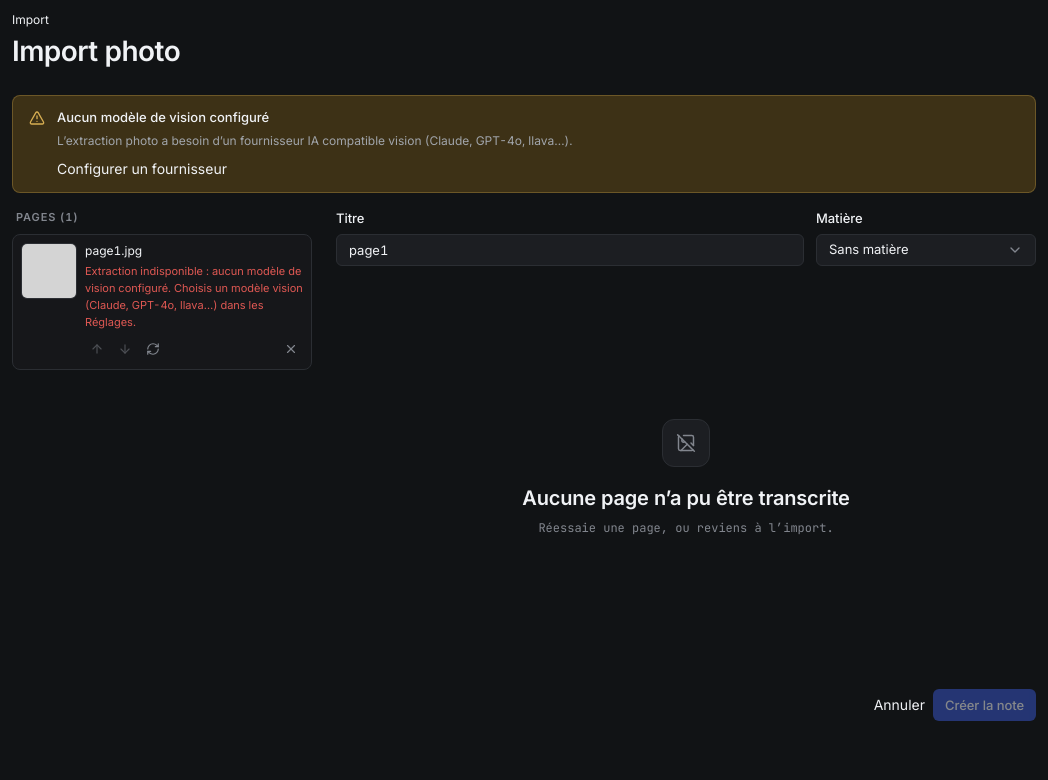
Scenario: <PhotoImport> provider banner › clears the no-vision-provider banner once a retry extracts successfully
Expected: the text "Aucun modèle de vision configuré" is shown, [57,109,269,125]
// Provider fixed elsewhere → retry now succeeds → banner disappears.
Click the button named "Réextraire cette page": (153, 349) [141,337,165,361]
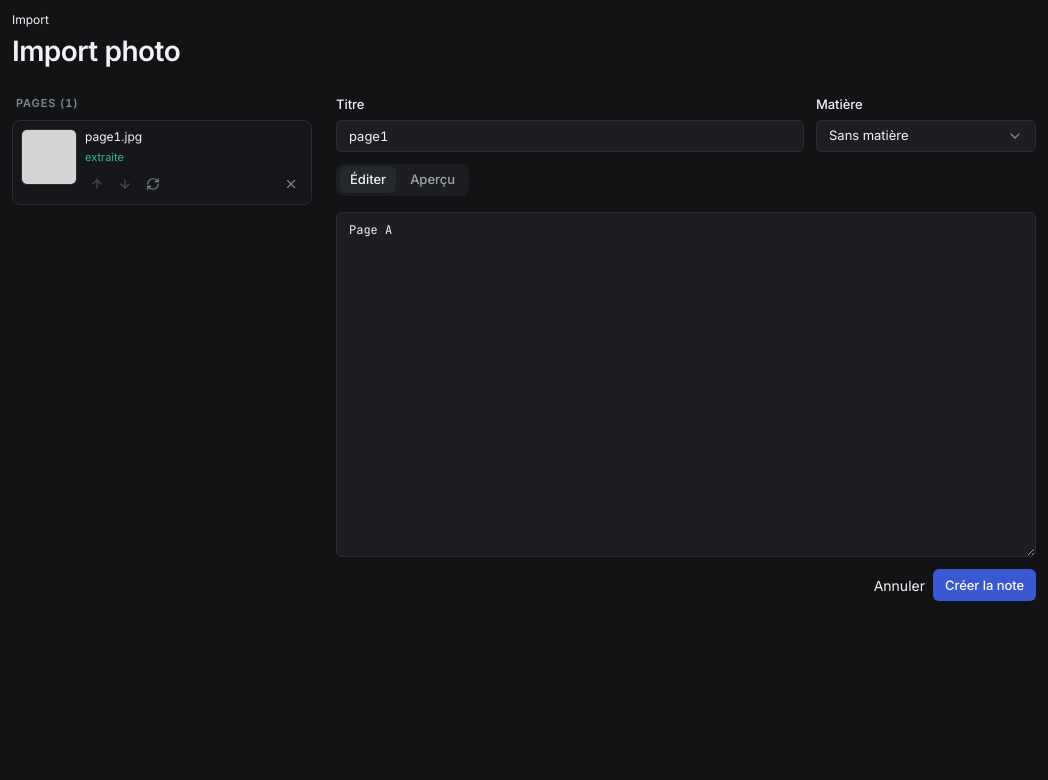
Expected: the text "Aucun modèle de vision configuré" is gone
